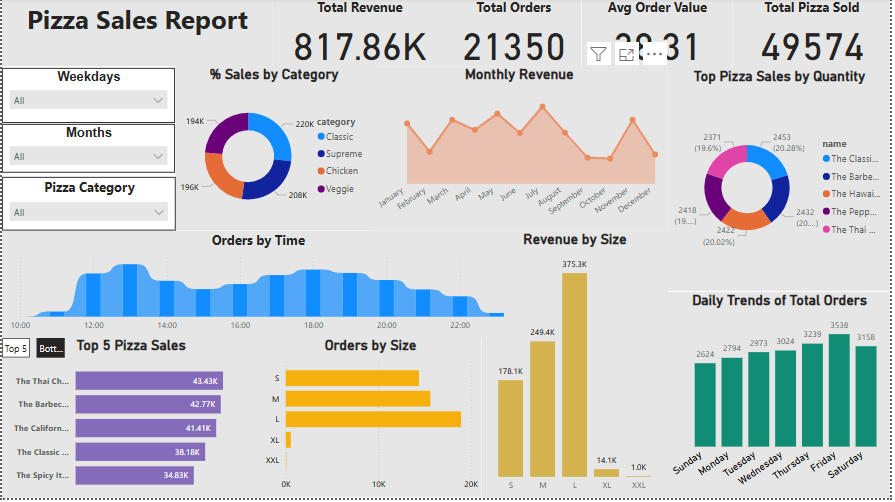

This screenshot's page, from the dashboard's own definition file:
{"tool":"powerbi","page":{"name":"Page 1","canvas":[1280,720],"ordinal":0},"visuals":[{"type":"card","title":"Total Revenue","fields":{"Values":["Sum(orders_details.sales)"]},"box":[390,0,250,101.2],"z":0},{"type":"card","title":"Total Orders","fields":{"Values":["orders_details.Total orders"]},"box":[640,0,195,101.2],"z":1000},{"type":"card","title":"Avg Order Value","fields":{"Values":["orders_details.Avg Order Value"]},"box":[835,0,217.3,101.2],"z":2000},{"type":"card","title":"Total Pizza Sold","fields":{"Values":["orders_details.Total Pizza Qty"]},"box":[1052.3,0,227.7,101.2],"z":3000},{"type":"donutChart","title":"% Sales by Category","fields":{"Y":["orders_details.Total sales"],"Category":["pizza_types.category"]},"box":[38.7,422.7,294.7,270.9],"z":4000},{"type":"barChart","title":"Orders by Size","fields":{"Category":["size_bucket.size"],"Y":["Sum(orders_details.quantity)"]},"box":[372.1,488.2,318.5,230.7],"z":5000},{"type":"columnChart","title":"Daily Trends of Total Orders","fields":{"Category":["orders.Day Name"],"Y":["orders_details.Total orders"]},"box":[958.5,422.7,321.5,297.7],"z":6000},{"type":"clusteredColumnChart","title":"Revenue by Size","fields":{"Category":["size_bucket.size"],"Y":["Sum(orders_details.Total Revenue)"]},"box":[690.6,334.9,267.9,384],"z":8000},{"type":"lineChart","title":"Monthly Revenue","fields":{"Category":["orders.Month Name"],"Y":["orders_details.Total sales"]},"box":[531.3,98.2,427.2,236.7],"z":9000},{"type":"textbox","box":[0,0,390,98.2],"z":10000},{"type":"clusteredBarChart","title":"Top 5 Pizza Sales","fields":{"Category":["pizza_types.name"],"Y":["Sum(orders_details.Total Revenue)"]},"box":[0,488.2,372.1,232.2],"z":11000},{"type":"bookmarkNavigator","box":[0,489.7,90.8,28.3],"z":13000},{"type":"slicer","title":"Weekdays","fields":{"Values":["orders.Day Name"]},"box":[0,101.2,248.6,78.9],"z":13001},{"type":"slicer","title":"Months","fields":{"Values":["orders.Month Name"]},"box":[0,181.6,248.6,70],"z":13002},{"type":"ribbonChart","title":"Orders by Time","fields":{"Category":["orders.Custom_Time"],"Y":["orders_details.Total orders"]},"box":[0,334.9,738.2,153.3],"z":13003},{"type":"slicer","title":"Pizza Category","fields":{"Values":["pizza_types.category"]},"box":[0,257.5,250,77.4],"z":13004},{"type":"donutChart","title":"Top Pizza Sales by Quantity","fields":{"Category":["pizza_types.name"],"Y":["orders_details.Total Pizza Qty"]},"box":[958.5,101.2,321.5,321.5],"z":13005},{"type":"donutChart","title":"% Sales by Category","fields":{"Y":["orders_details.Total sales"],"Category":["pizza_types.category"]},"box":[250,98.2,282.8,236.7],"z":13006}]}

Visuals, with their boxes in screenshot pixels (x1, y1, x2, y2), scaled from the page's 1280x720 canvas onto the 895x502 screenshot:
"Total Revenue" card: rect(273, 0, 448, 71)
"Total Orders" card: rect(448, 0, 584, 71)
"Avg Order Value" card: rect(584, 0, 736, 71)
"Total Pizza Sold" card: rect(736, 0, 894, 71)
"% Sales by Category" donutChart: rect(27, 295, 233, 484)
"Orders by Size" barChart: rect(260, 340, 483, 501)
"Daily Trends of Total Orders" columnChart: rect(670, 295, 894, 501)
"Revenue by Size" clusteredColumnChart: rect(483, 233, 670, 501)
"Monthly Revenue" lineChart: rect(371, 68, 670, 233)
textbox: rect(0, 0, 273, 68)
"Top 5 Pizza Sales" clusteredBarChart: rect(0, 340, 260, 501)
bookmarkNavigator: rect(0, 341, 63, 361)
"Weekdays" slicer: rect(0, 71, 174, 126)
"Months" slicer: rect(0, 127, 174, 175)
"Orders by Time" ribbonChart: rect(0, 233, 516, 340)
"Pizza Category" slicer: rect(0, 180, 175, 233)
"Top Pizza Sales by Quantity" donutChart: rect(670, 71, 894, 295)
"% Sales by Category" donutChart: rect(175, 68, 373, 233)
